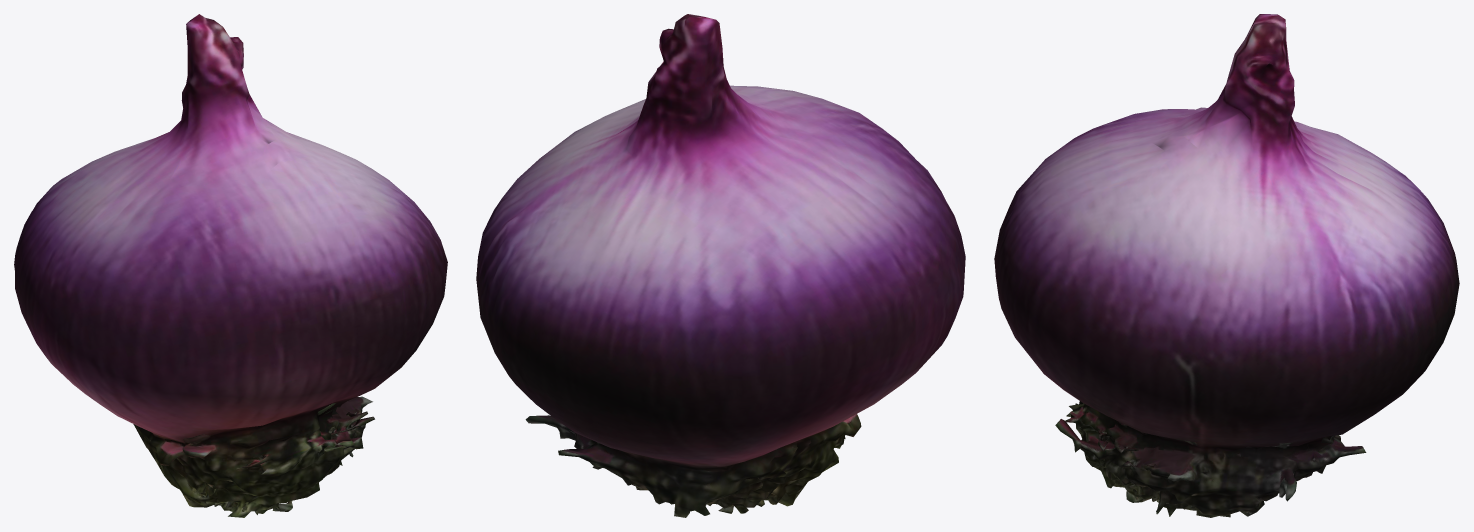
The model's file is d74be3b18d3a_74016a1e41f4_giant_sprouting_pur.glb.
The picture shows the model from 3 angles, left to right: view 1: azimuth 30°, elevation 25°; view 2: azimuth 150°, elevation 25°; view 3: azimuth 270°, elevation 25°; orthographic projection. The views are drawn at different scales.
Parts seen in each view (by area): view 1: mesh; view 2: mesh; view 3: mesh.
Boxes of the visible parts, bbox=[...] form: mesh: bbox=[14, 14, 447, 517]; mesh: bbox=[476, 14, 965, 517]; mesh: bbox=[994, 14, 1459, 517].
Bounding box in the file's own units: 0.8702 × 1 × 0.8826.
Materials: 1 (1 with a texture image).
